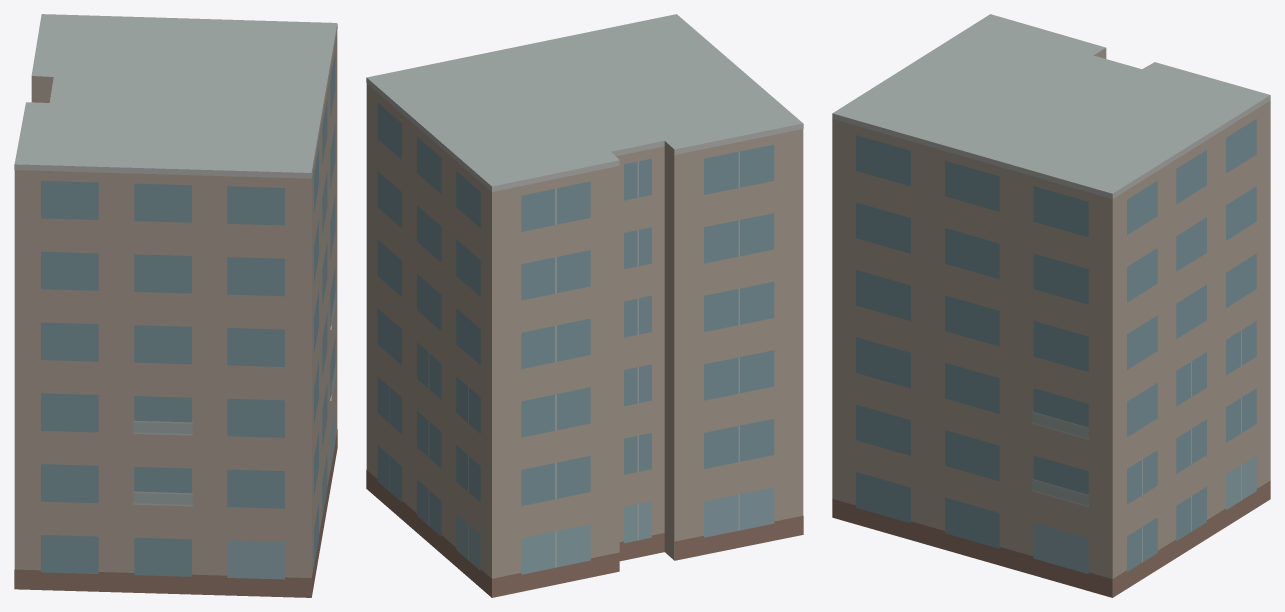
File: survey-upis-32906364.glb
The picture shows the model from 3 angles, left to right: view 1: azimuth 30°, elevation 25°; view 2: azimuth 150°, elevation 25°; view 3: azimuth 270°, elevation 25°; orthographic projection. The views are drawn at different scales.
Parts seen in each view (by area): view 1: survey-upis-32906364.tmp; view 2: survey-upis-32906364.tmp; view 3: survey-upis-32906364.tmp.
Boxes of the visible parts, bbox=[...] form: survey-upis-32906364.tmp: bbox=[14, 14, 337, 597]; survey-upis-32906364.tmp: bbox=[366, 14, 803, 597]; survey-upis-32906364.tmp: bbox=[832, 14, 1270, 597].
Bounding box in the file's own units: 17.46 × 18.3 × 18.
